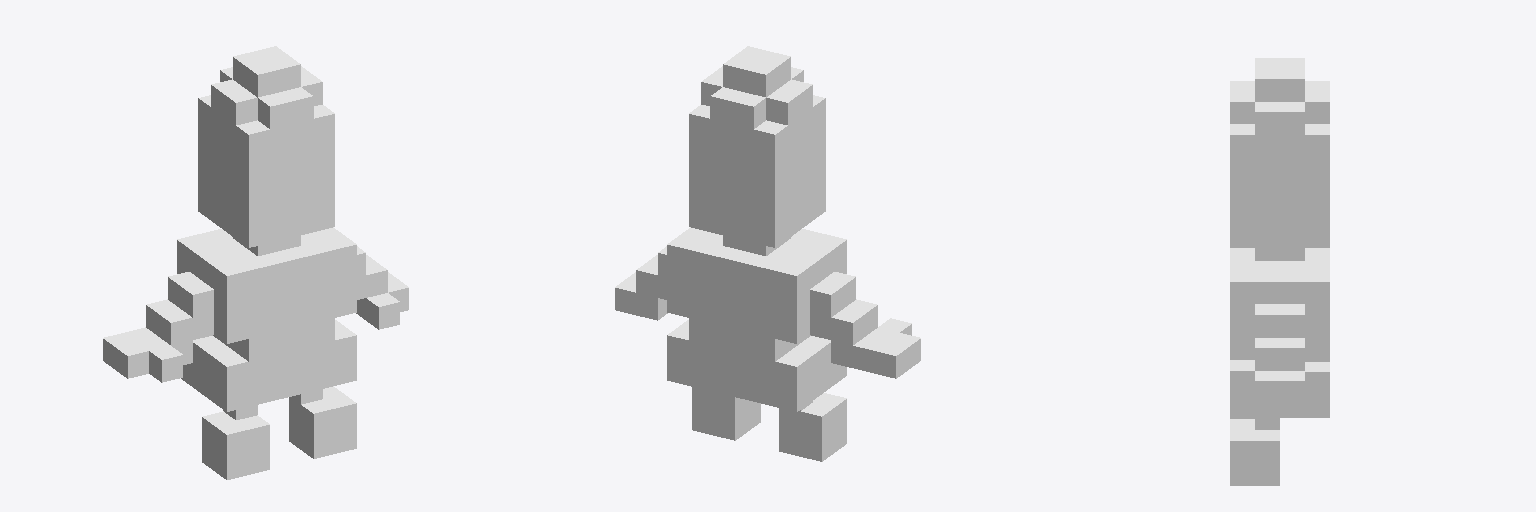
File: Page_Prototype.obj
The picture shows the model from 3 angles: view 1: azimuth 30°, elevation 25°; view 2: azimuth 150°, elevation 25°; view 3: azimuth 270°, elevation 25°; orthographic projection.
Visible parts, largest first — view 1: Page_Prototype; view 2: Page_Prototype; view 3: Page_Prototype.
Boxes of the visible parts, box(x1,y1,x2,y2) form: Page_Prototype: box(103, 46, 408, 479); Page_Prototype: box(615, 46, 920, 461); Page_Prototype: box(1230, 58, 1329, 485).
Size of the model in its own units: 13 by 17 by 4.